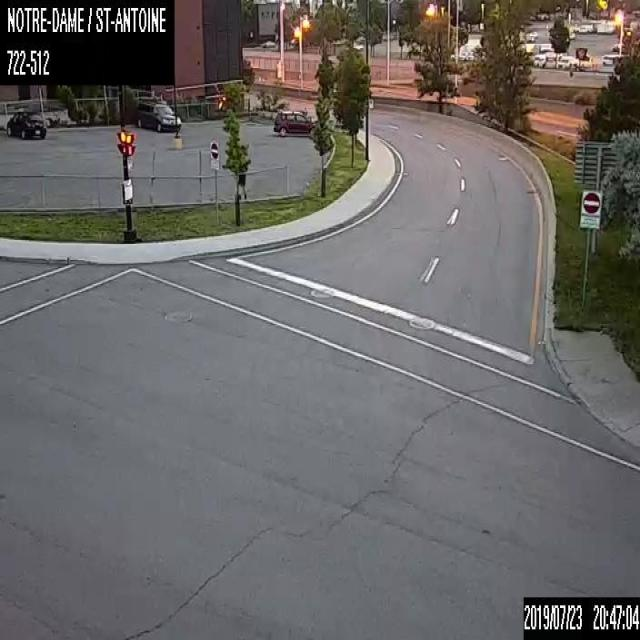vehicle: (136, 100, 181, 132), (272, 108, 318, 136), (6, 110, 46, 140)
